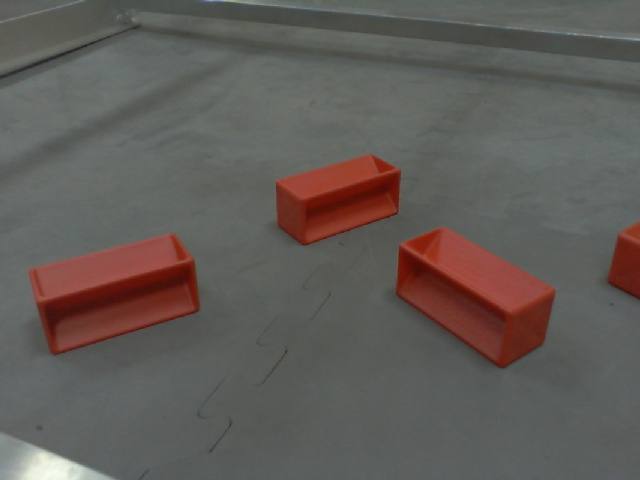RedSample: (25, 227, 205, 363), (395, 224, 556, 371), (271, 151, 399, 244), (606, 218, 640, 303)
